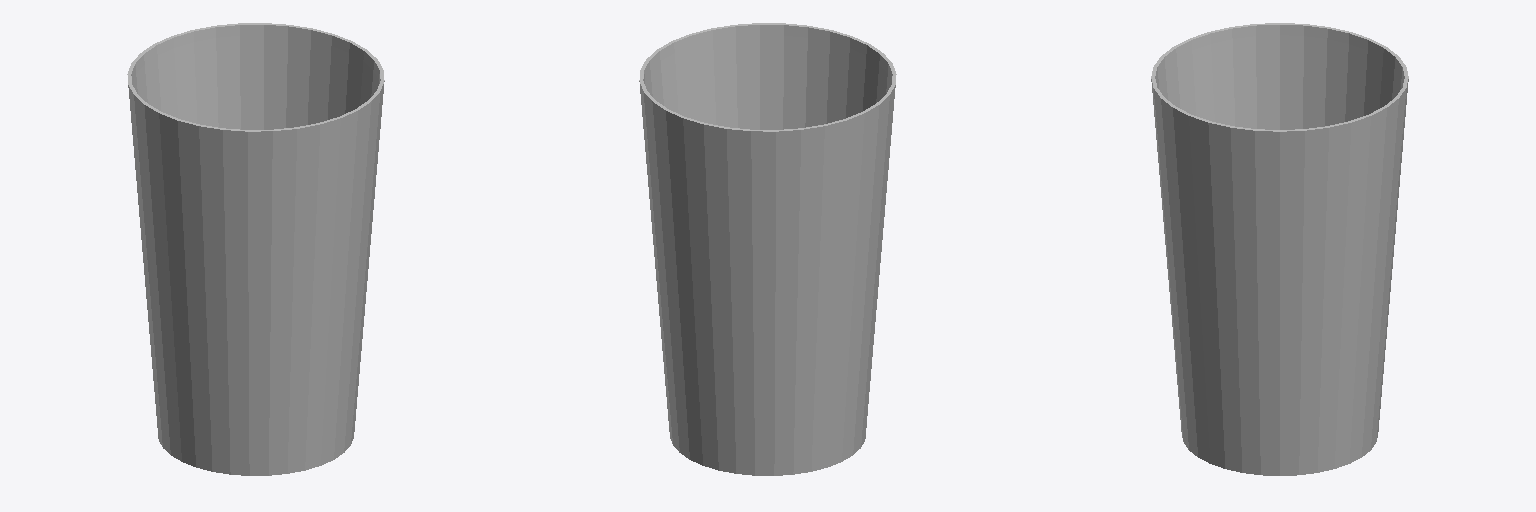
Rendered from Glass_Cylinder.001.obj.
3 renders of one model, left to right at view 1: azimuth 30°, elevation 25°; view 2: azimuth 150°, elevation 25°; view 3: azimuth 270°, elevation 25°, orthographic.
Visible parts, largest first — view 1: Glass_Cylinder.001; view 2: Glass_Cylinder.001; view 3: Glass_Cylinder.001.
Part boxes in pixels (x1,y1,x2,y2): Glass_Cylinder.001: (127,23,384,475); Glass_Cylinder.001: (639,23,896,475); Glass_Cylinder.001: (1151,23,1408,475).
Bounding box in the file's own units: 2 × 3.06 × 2.